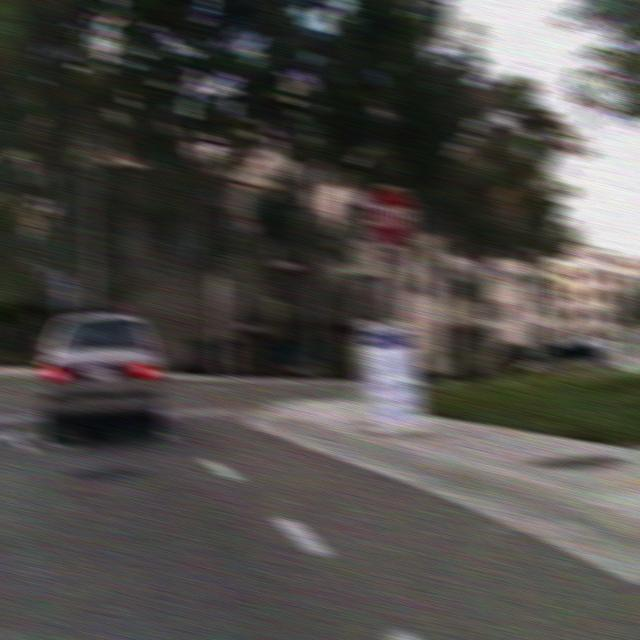stop: (364, 182, 419, 247)
